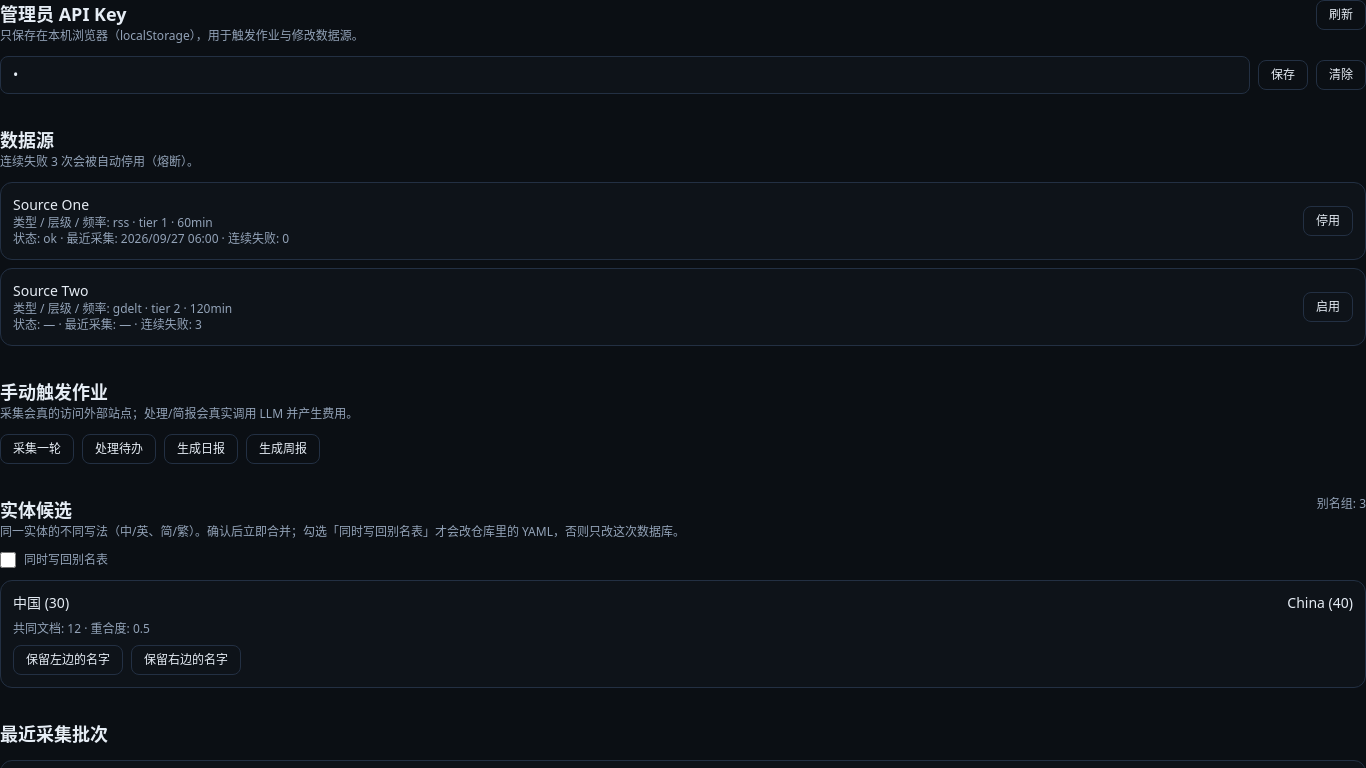
Scenario: AdminView › 勾选写回别名表后合并会带上 remember: true
Expected: the text "中国 (30)" is shown, [13,593,69,613]
Click the checkbox at (8, 560), box [0,552,16,568]
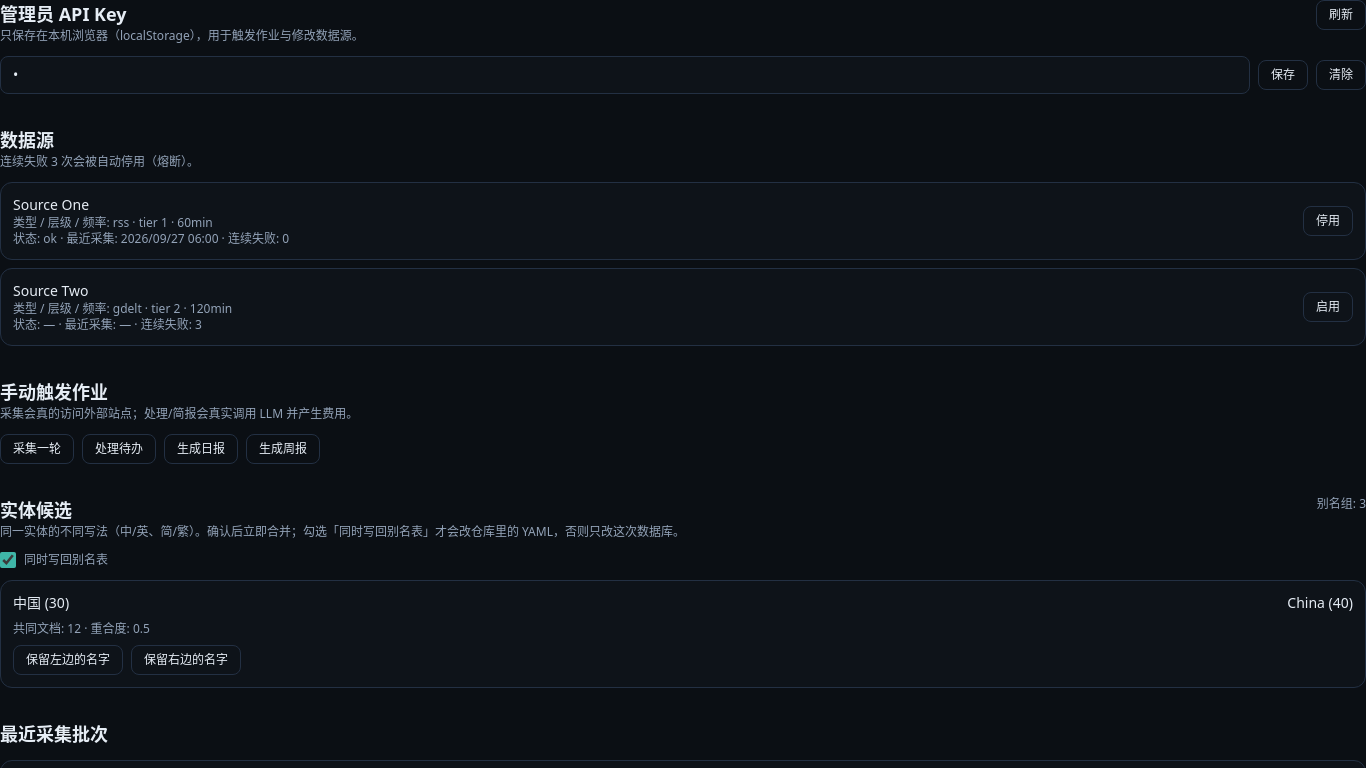
Click the button with test id "keep-right-1-2" at (186, 660), box [131,645,241,675]
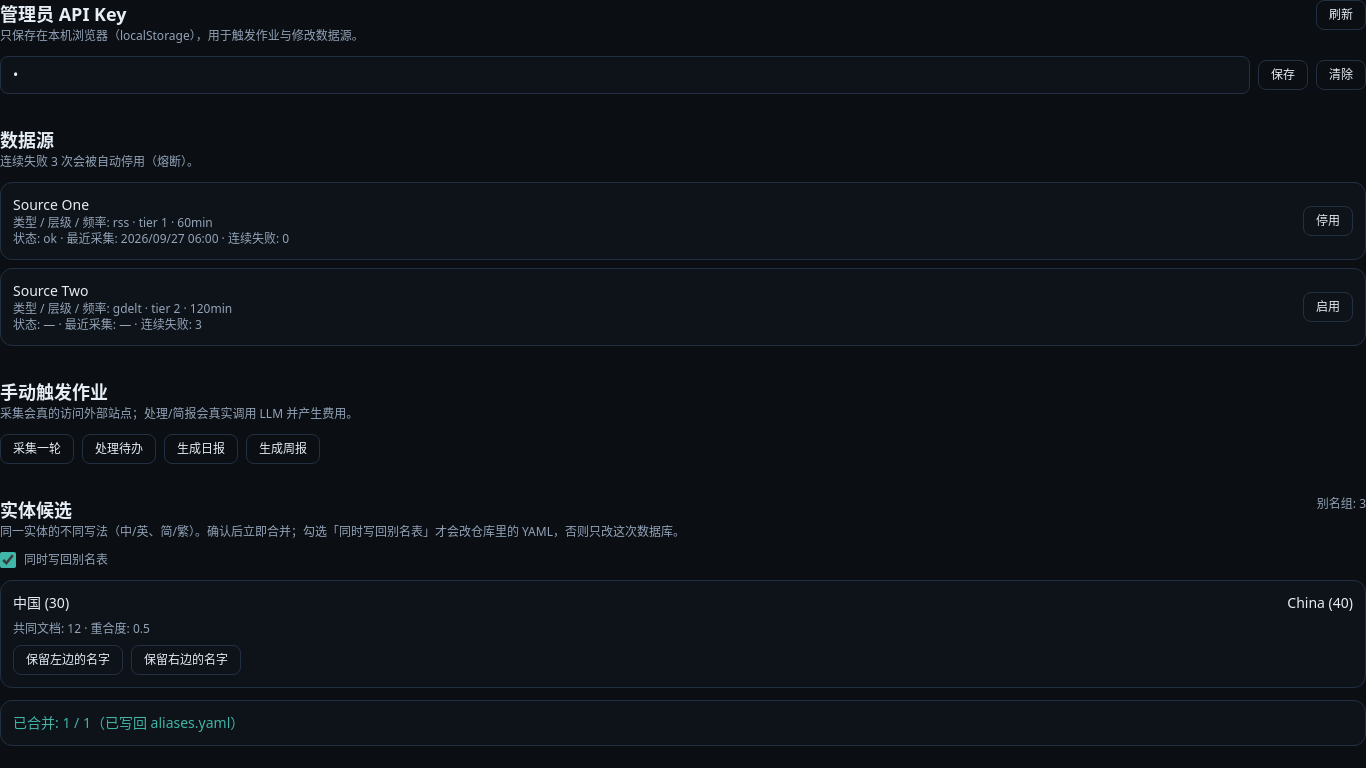
Now the checkbox is checked, box [0,552,16,568]
Now the text "已合并: 1 / 1（已写回 aliases.yaml）" is shown, box [13,713,244,732]
